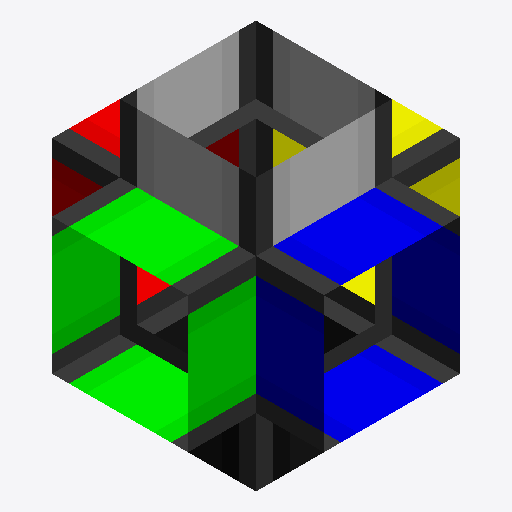
Isometric view (azimuth 45°, elevation 35.3°) of a Minecraft model made of 30 cuboids, textured from the same repository.
Visible parts, largest first — element 11, element 14, element 17, element 19, element 18, element 22, element 15, element 20, element 16, element 21, element 12, element 13 (+18 smaller).
Part boxes in pixels (x1,y1,x2,y2): element 11: (120,99,255,255); element 14: (256,99,391,255); element 17: (256,256,323,451); element 19: (188,256,255,451); element 18: (257,178,459,294); element 22: (52,178,254,294); element 15: (392,217,459,372); element 20: (52,217,119,372); element 16: (324,335,459,451); element 21: (52,335,187,451); element 12: (121,21,255,137); element 13: (256,21,390,137).
Bounding box in the file's own units: 16 × 16 × 16.